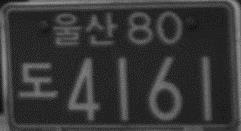0: (157, 10, 183, 47)
1: (199, 53, 215, 123), (117, 56, 132, 123)
4: (66, 55, 100, 122)
6: (148, 56, 184, 122)
8: (127, 10, 153, 47)
도: (16, 60, 60, 98)
울산_O: (50, 10, 118, 47)
